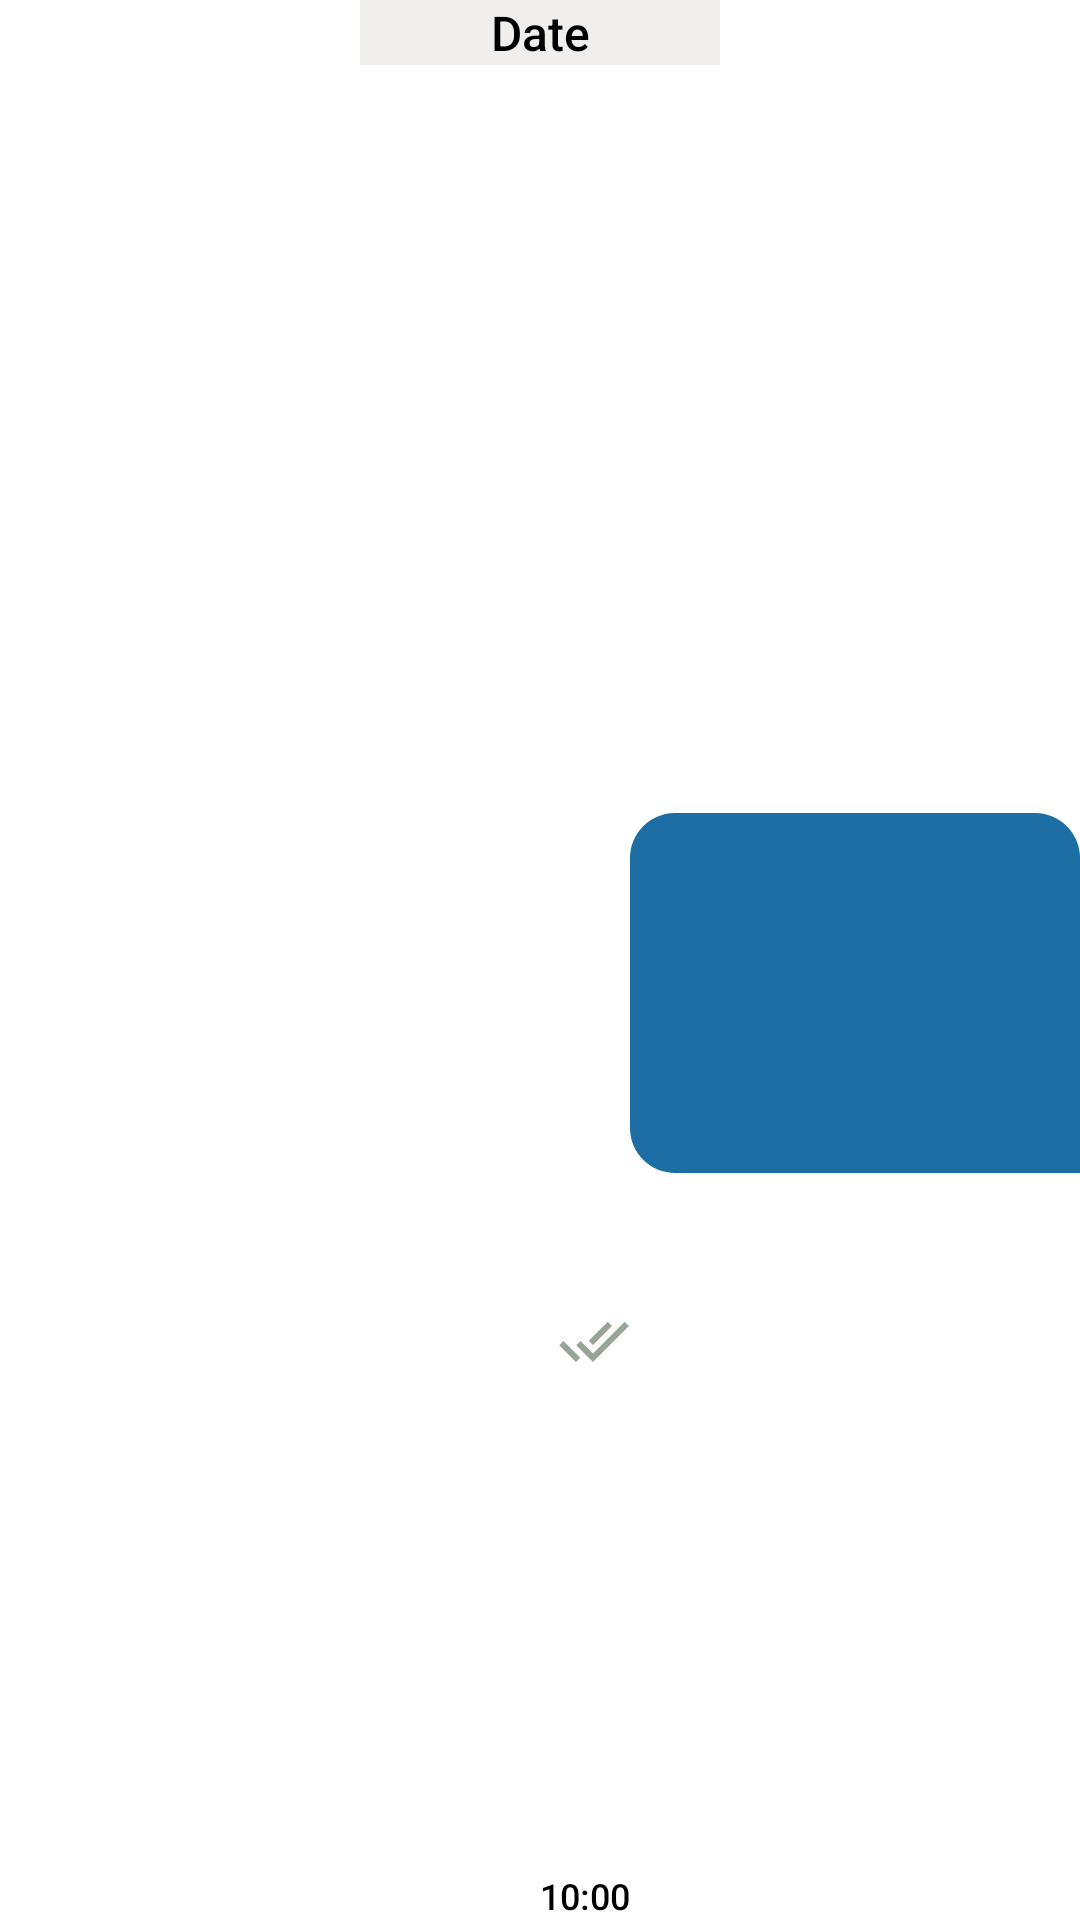

Where icons sit on this 1080 x 1920 app screen, as [x1=x1, y1=y1, x2=x2, y2=y2]:
done all: [x1=559, y1=1322, x2=629, y2=1362]
